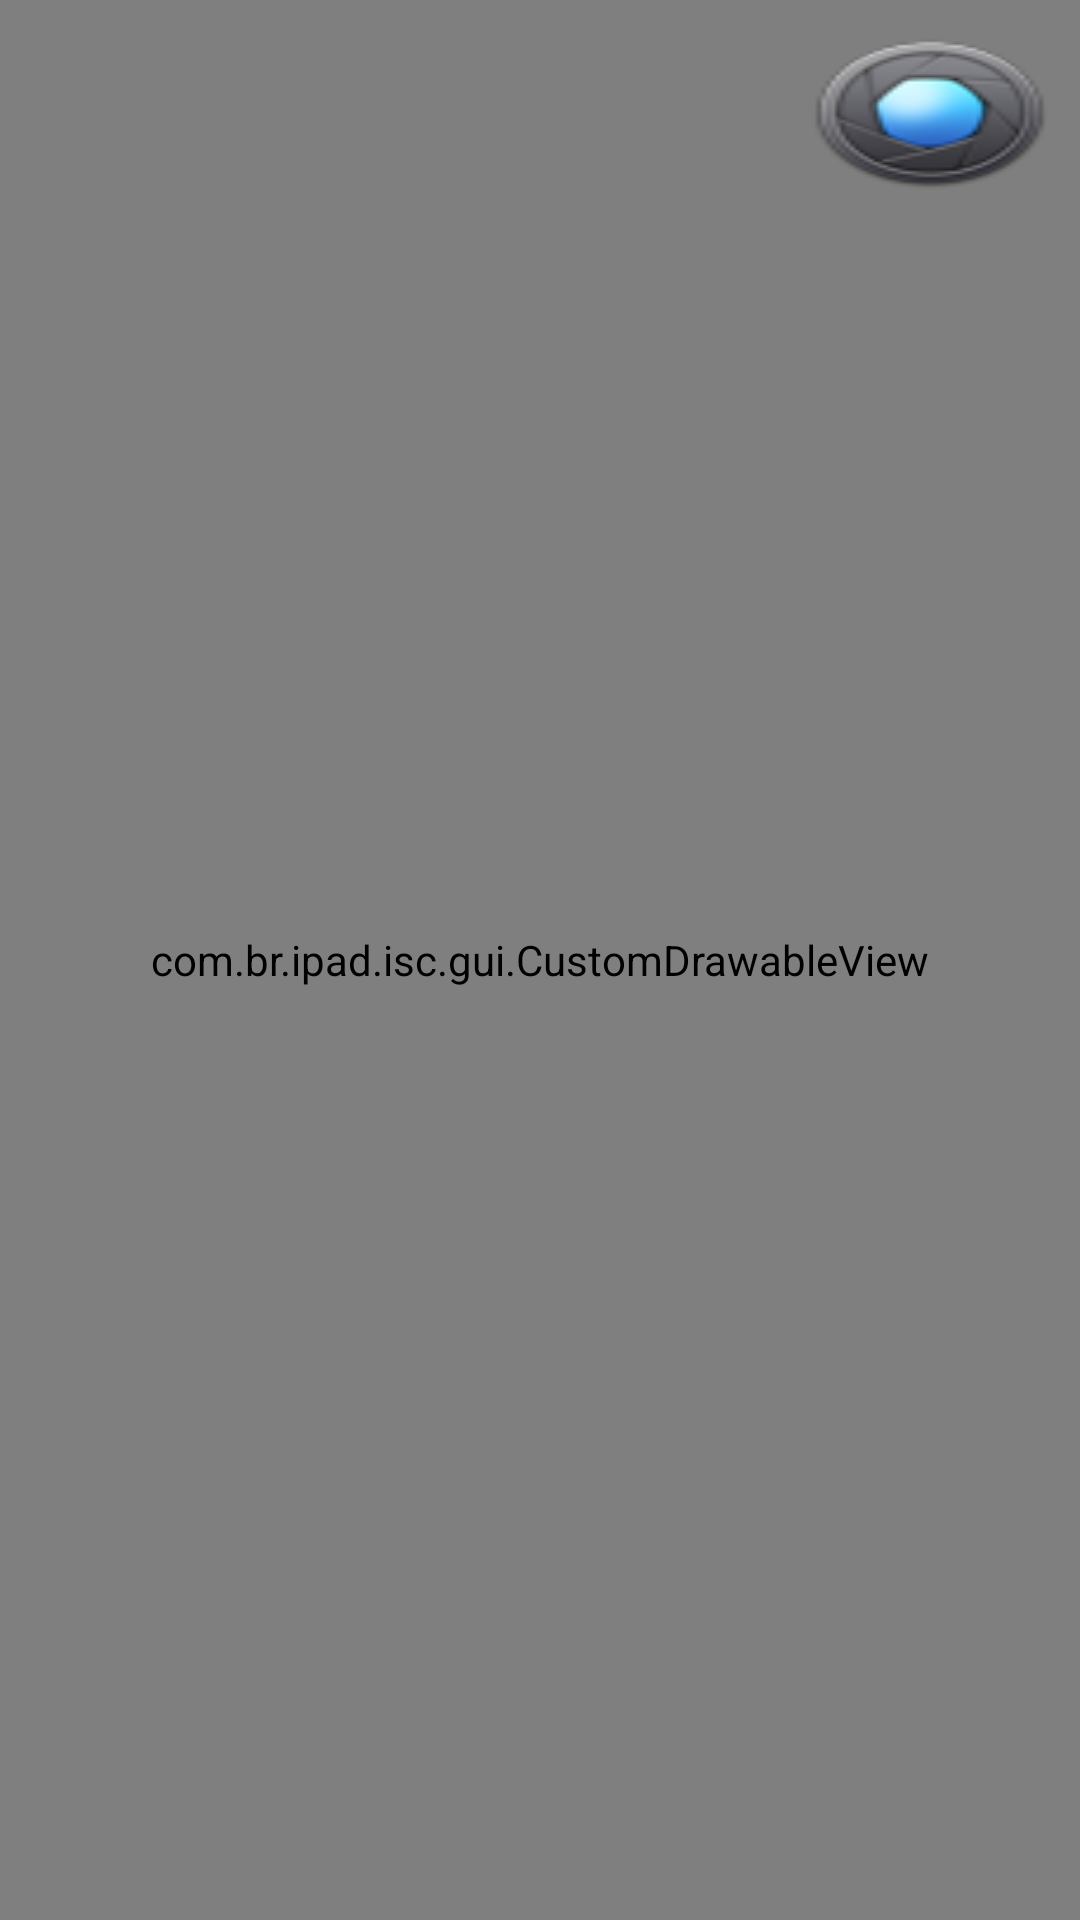

Icon click points for this 1080px x 1920px phone screenshot, format [x,y]:
camerabt: [930,114]
